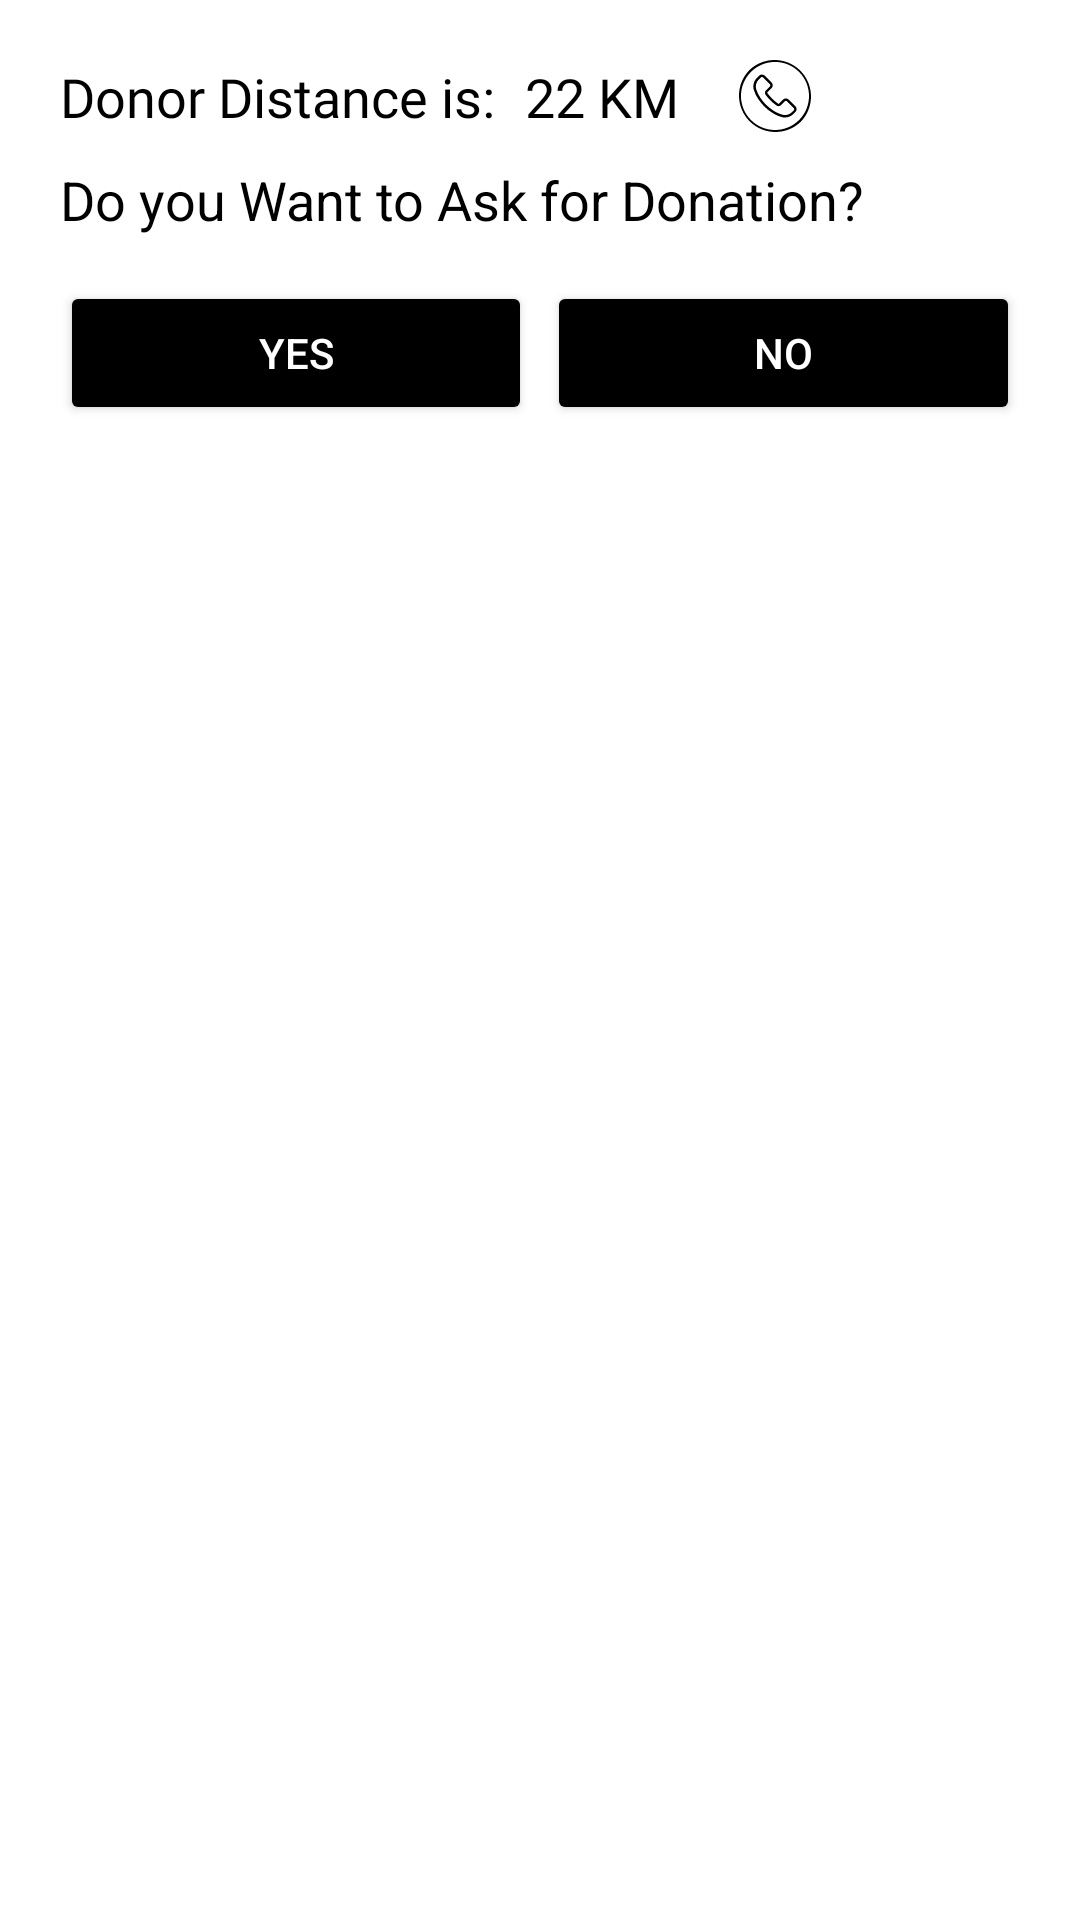

Icon click points for this 1080w x 1920h phone screenshot, format (x=x, y=y):
phone call: (x=775, y=96)
